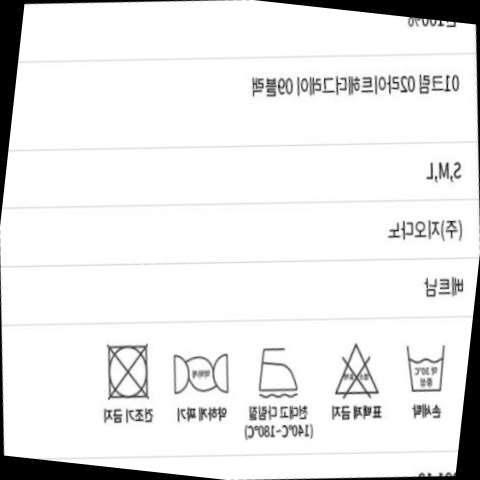30C: (393, 333, 456, 399)
DN_tumble_dry: (92, 332, 163, 409)
iron: (161, 340, 240, 403), (244, 333, 311, 405)
non_chlorine_bleach: (319, 331, 389, 406)
